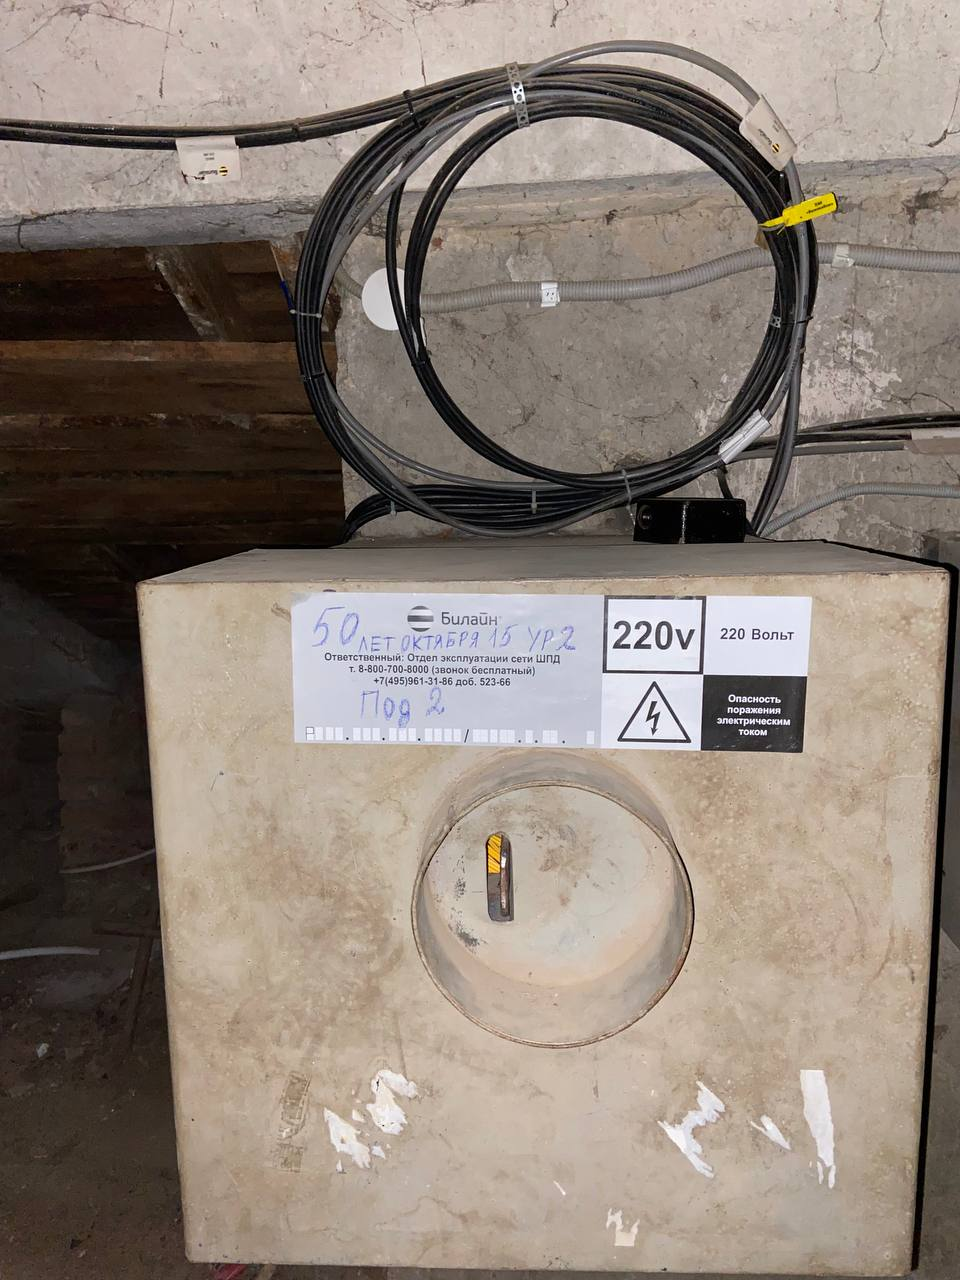shta-9: (126, 533, 950, 1262)
